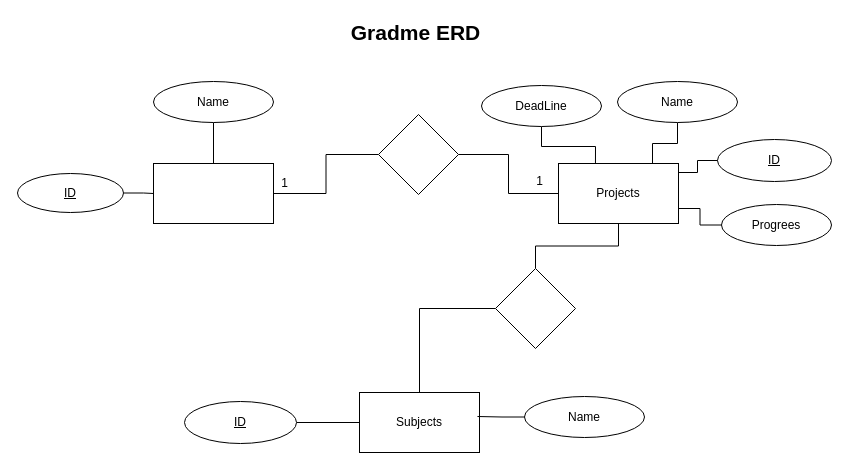
This 849x470 diagram has some shape labels left out. Here are the shapes that lost their labels. From the top down, the box of each, then its label:
(378, 114, 458, 194): Supervise
(152, 162, 274, 224): Doctors
(494, 268, 576, 348): About
